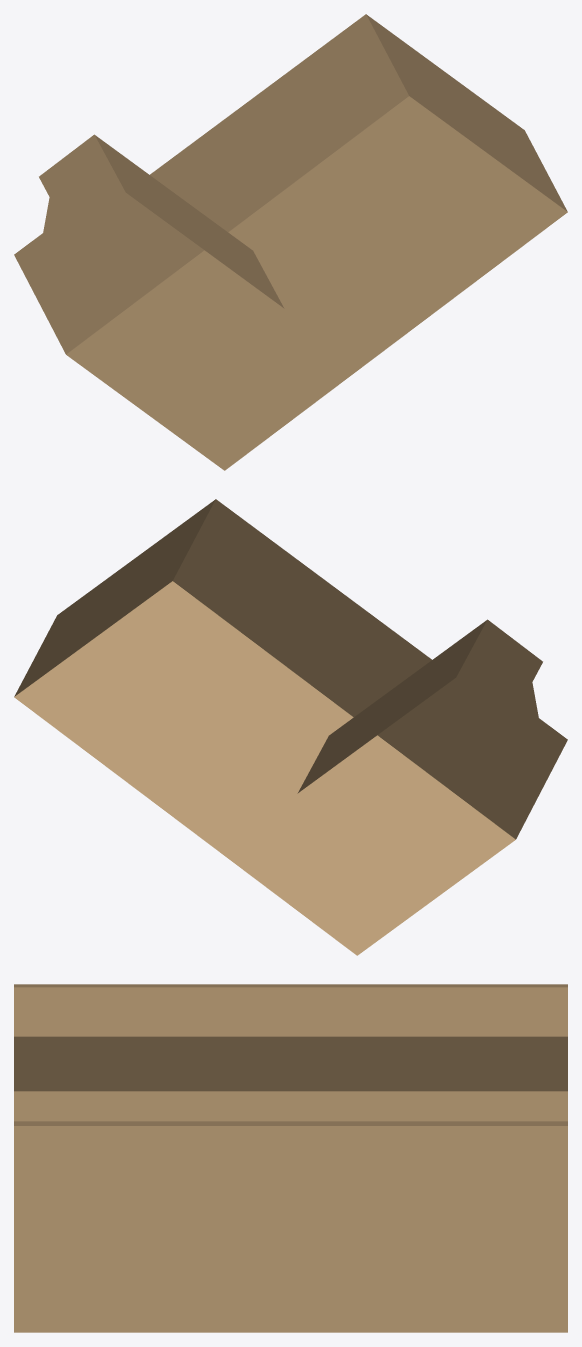
The picture shows the model from 3 angles, top to bottom: view 1: azimuth 30°, elevation 25°; view 2: azimuth 150°, elevation 25°; view 3: azimuth 270°, elevation 25°; orthographic projection. The views are drawn at different scales.
Visible parts, largest first — view 1: 0_0_1_1_2_1_2_2_2; view 2: 0_0_1_1_2_1_2_2_2; view 3: 0_0_1_1_2_1_2_2_2.
Boxes of the visible parts, x1,y1,x2,y2 form: 0_0_1_1_2_1_2_2_2: (14,14,567,470); 0_0_1_1_2_1_2_2_2: (14,499,567,955); 0_0_1_1_2_1_2_2_2: (14,984,567,1332).
Bounding box in the file's own units: 30.19 × 19.52 × 21.
